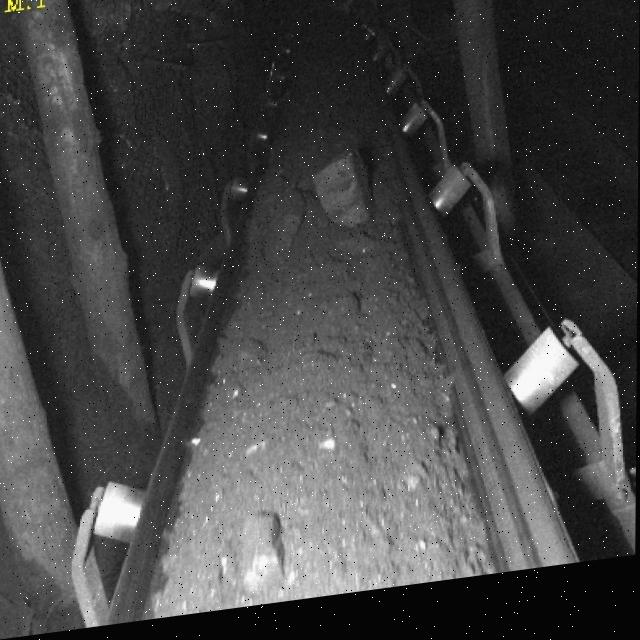large_sized_coal: (313, 159, 377, 251), (232, 517, 291, 602)
